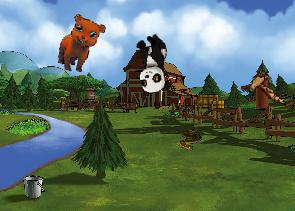bear: (55, 12, 107, 77)
eagle: (239, 68, 287, 106)
panda: (132, 32, 172, 96)
